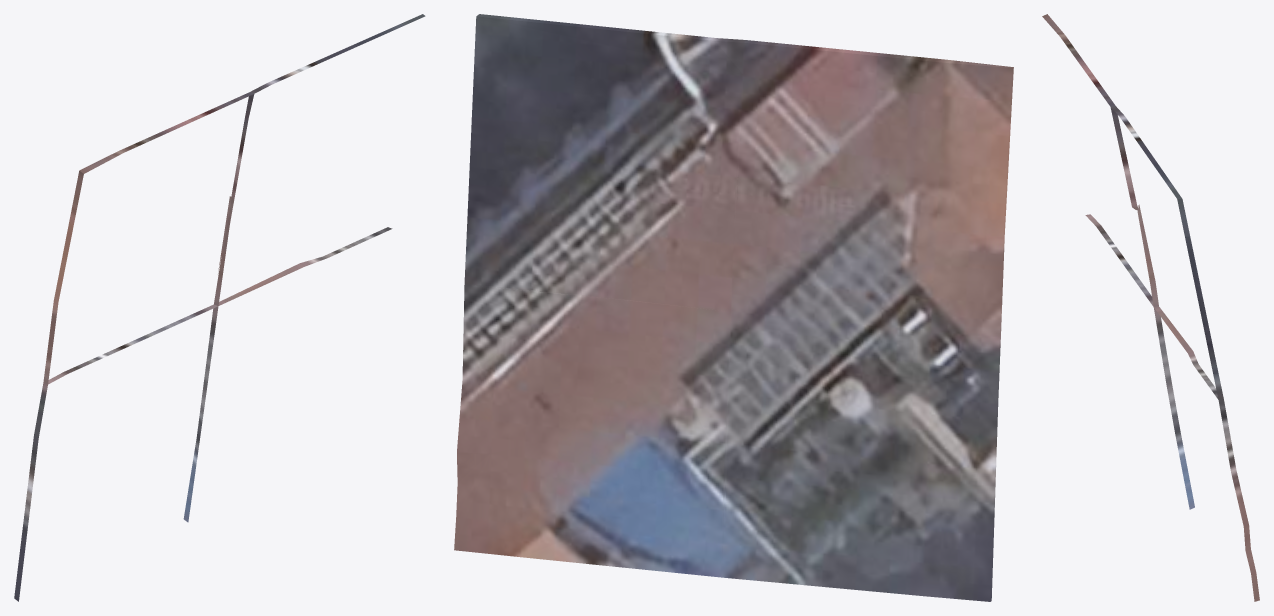
3 renders of one model, left to right at view 1: azimuth 30°, elevation 25°; view 2: azimuth 150°, elevation 25°; view 3: azimuth 270°, elevation 25°, orthographic. The views are drawn at different scales.
Bounding box in the file's own units: 37.93 × 37.49 × 17.93.
Materials: 1 (1 with a texture image).
